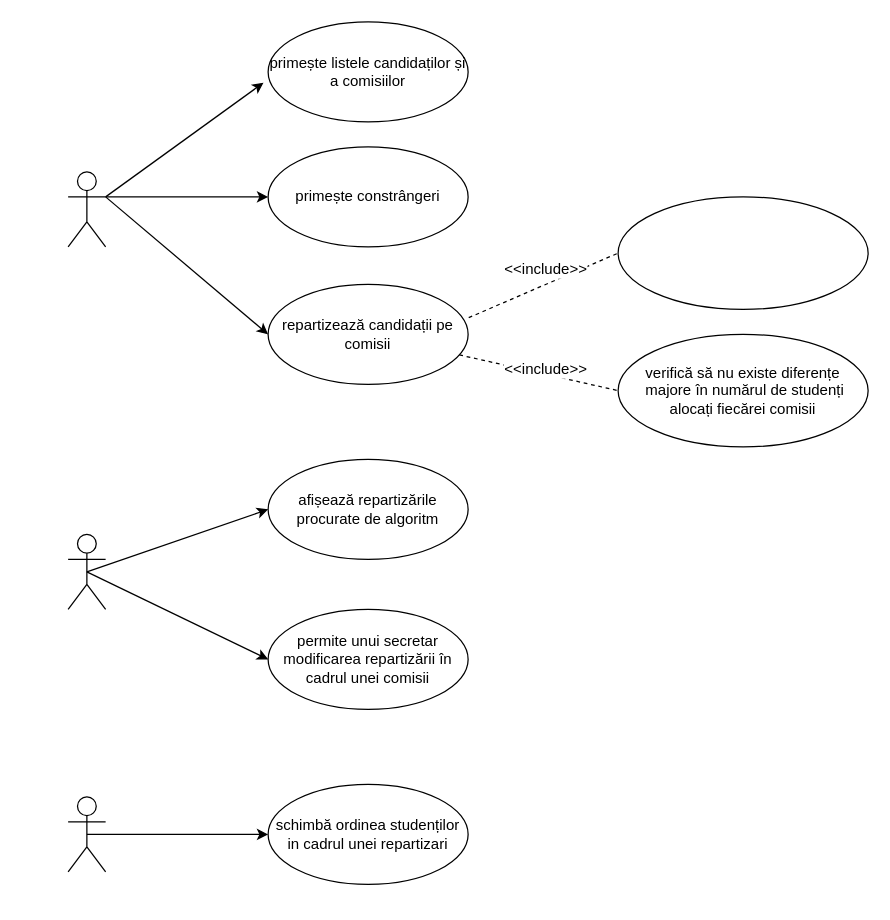
The diagram is 890 pixels wide and 920 high, and some of its shapes have lost their labels. Each missing label, with the centre of its shape:
"Algoritm" goes at point (86, 209).
"Manager repartizări" goes at point (86, 571).
"Secretar" goes at point (86, 834).
"verifică prezența coordonatorului la susținerea prezentării" goes at point (742, 252).
